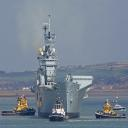Portanaves: (33, 17, 95, 120)
